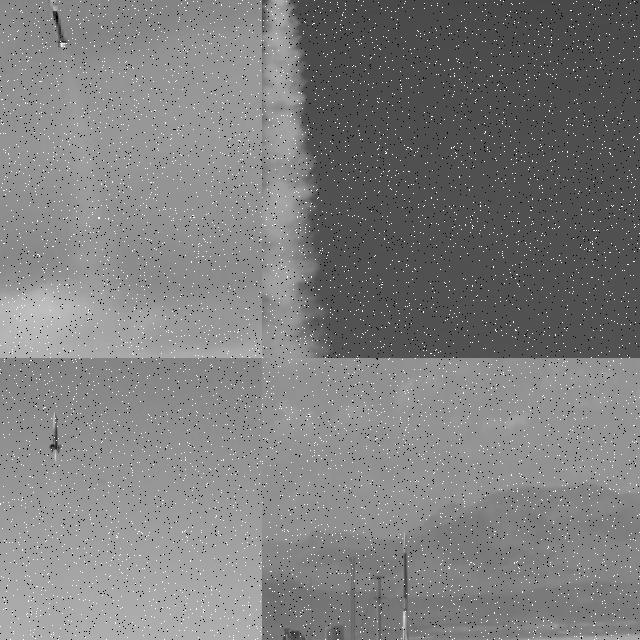Rocket: (47, 0, 69, 47), (400, 531, 409, 640), (48, 412, 63, 454)
